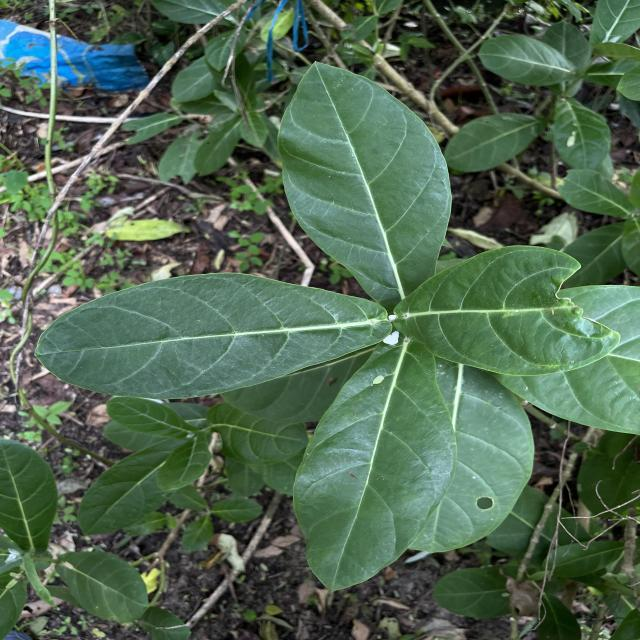Calotropis gigantea: (32, 269, 395, 402), (276, 60, 454, 308), (289, 339, 459, 594), (416, 357, 536, 556), (75, 436, 191, 538), (0, 436, 60, 556), (54, 550, 149, 624), (443, 112, 542, 174), (478, 34, 580, 87), (551, 96, 612, 172)
